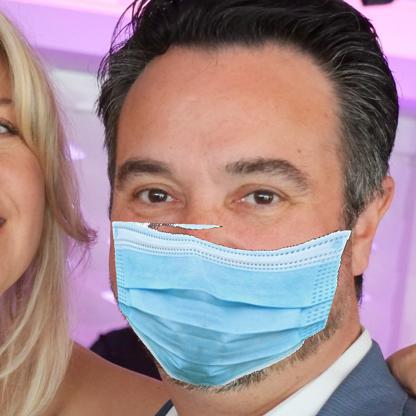mask: (106, 211, 358, 389)
